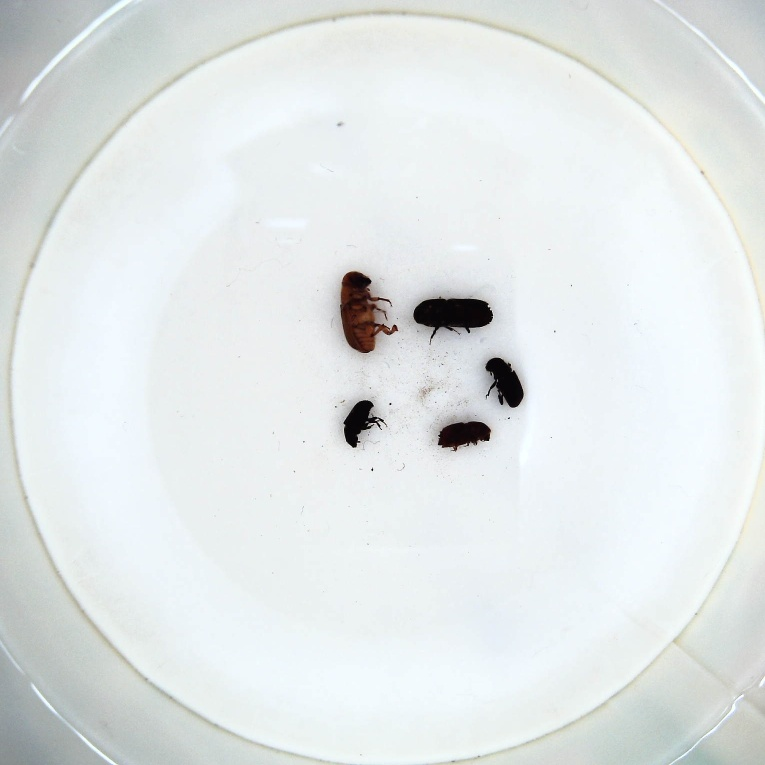armandi: (481, 353, 527, 410)
boerner: (411, 295, 499, 343)
coleoptera: (342, 397, 393, 449)
leconte: (337, 267, 403, 354)
linnaeus: (435, 420, 497, 453)
